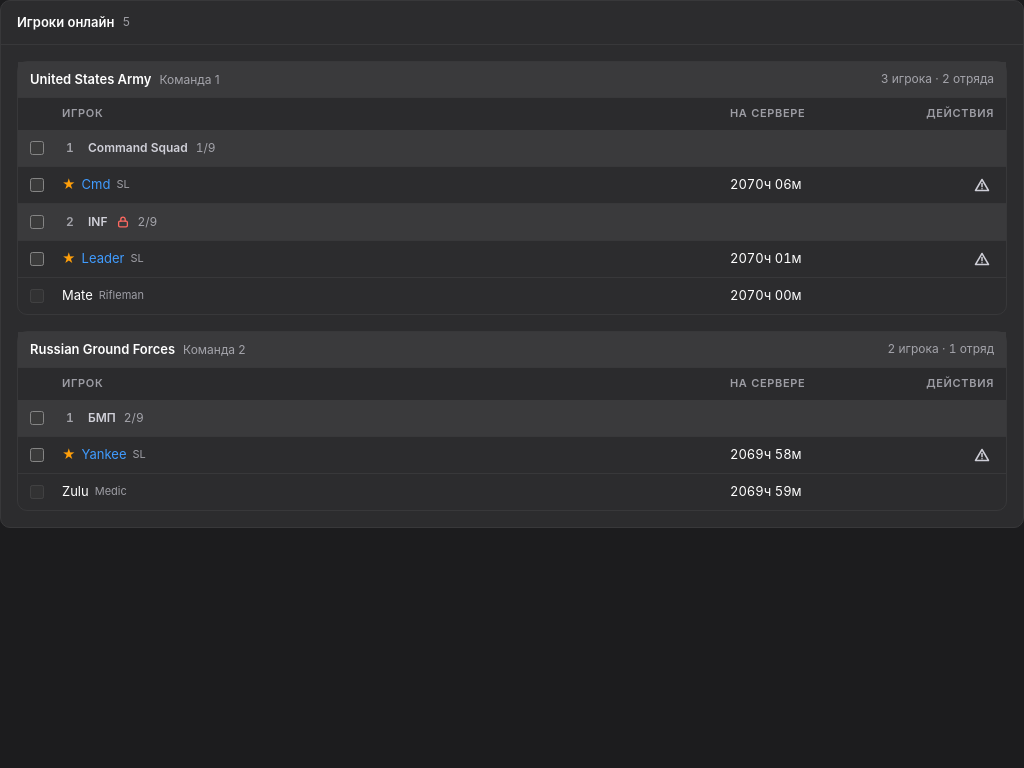
Test: LivePlayers — устойчивость к ответам API › reports a body without results as a readable error, not a TypeError
The width and height of the screenshot is (1024, 768).
Expected: the link "Leader" is shown, [82,249,124,268]
Click the button named "Предупредить: Leader": x=982, y=259 [970,247,994,271]
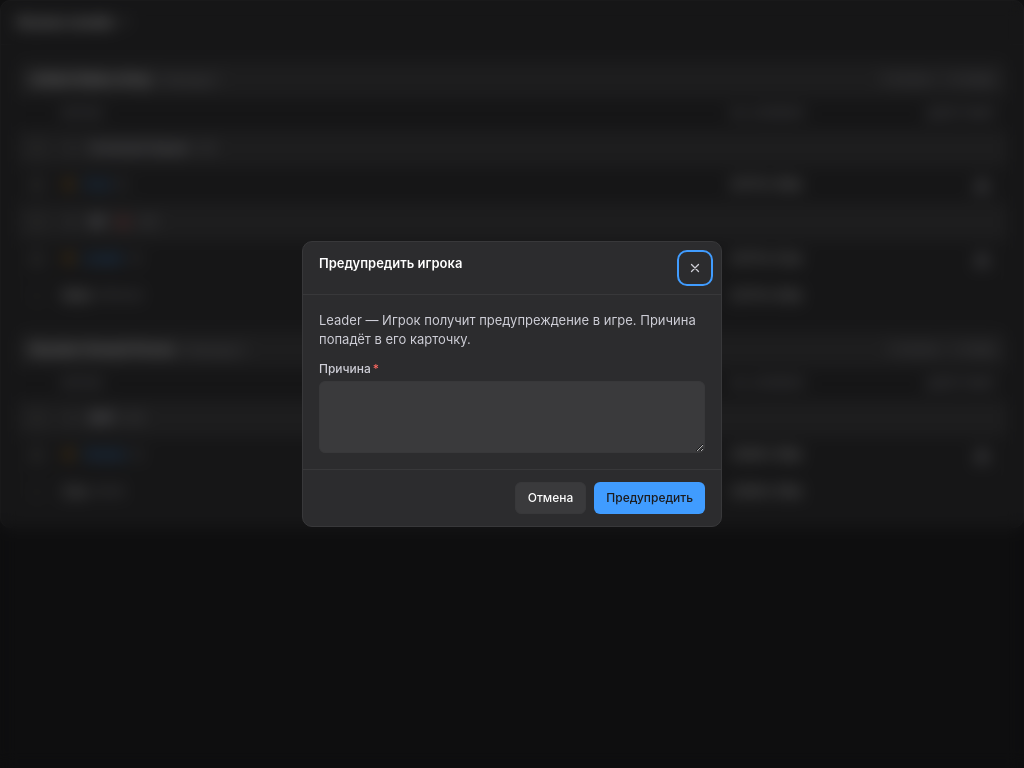
In the text box labelled "Причина*": x=512, y=417 [319,381,705,453], type "мат"
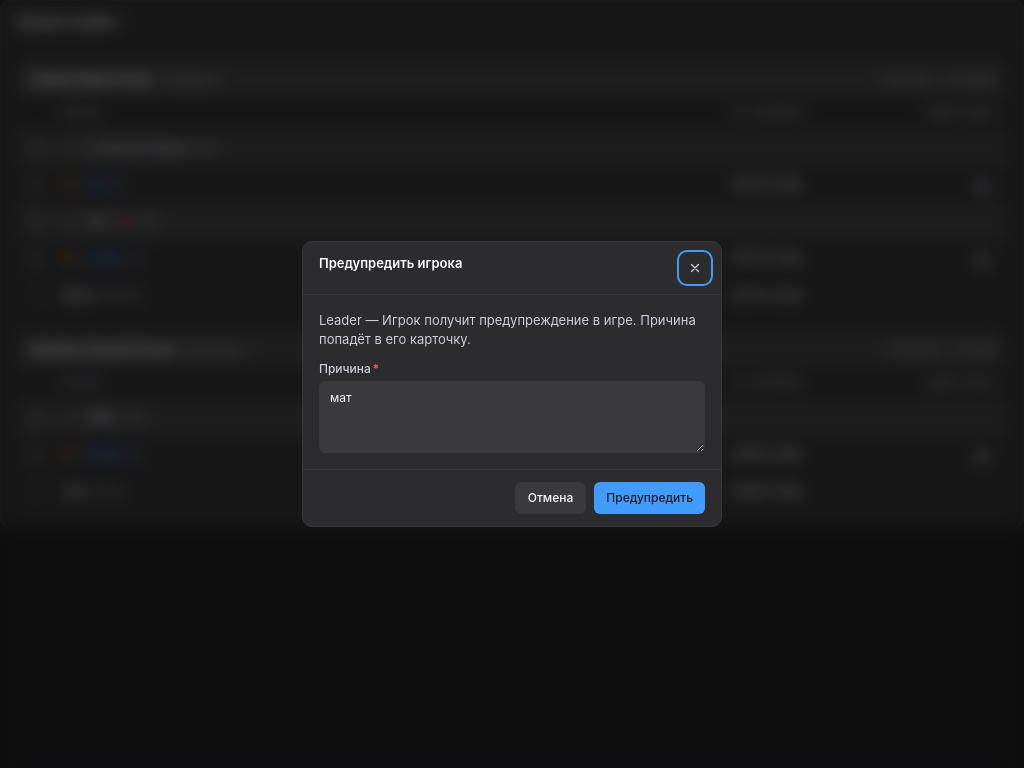
Click the button "Предупредить": x=650, y=498 [594,482,705,514]
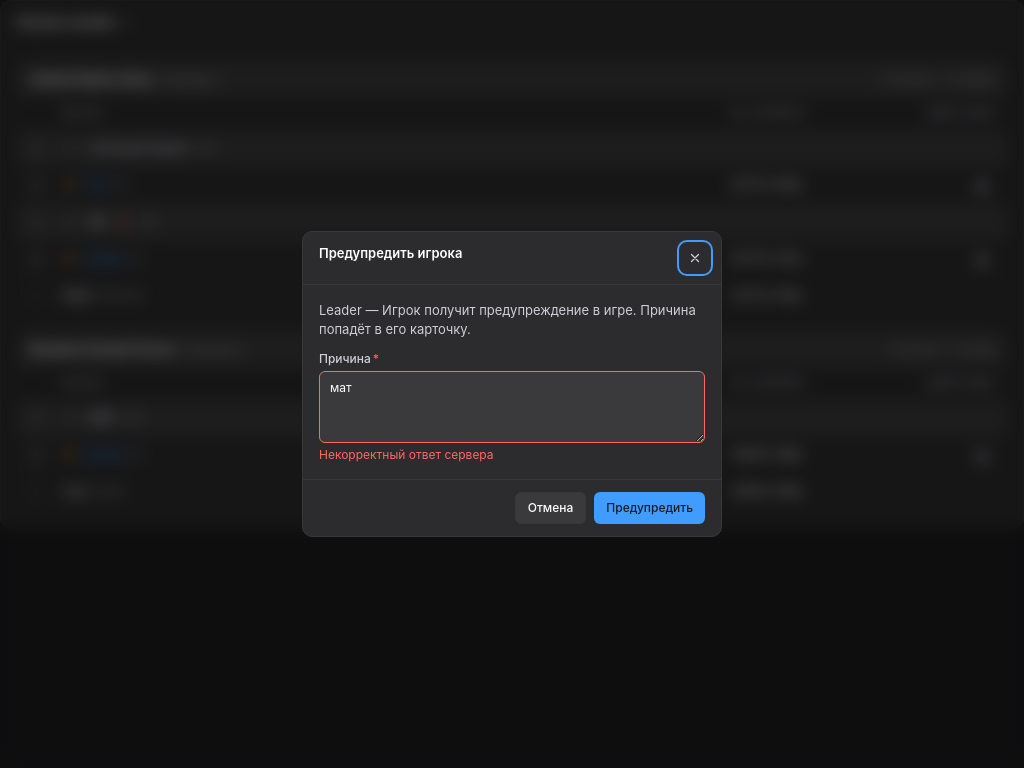
Expected: the message does not show "Cannot read", [319,447,494,462]
Expected: the message reads "Некорректный ответ сервера", [319,447,494,462]
